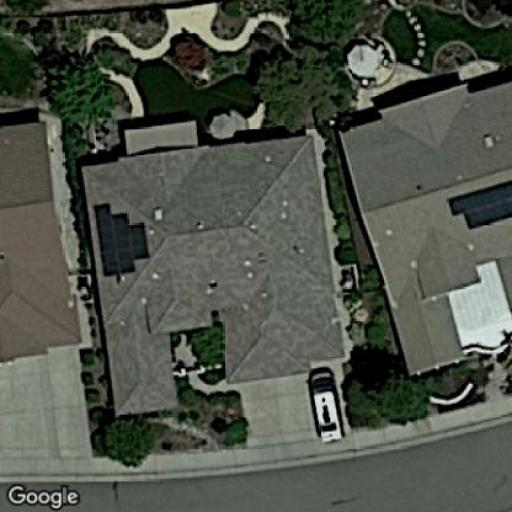solar-panel: (91, 201, 150, 279), (440, 178, 510, 232)
